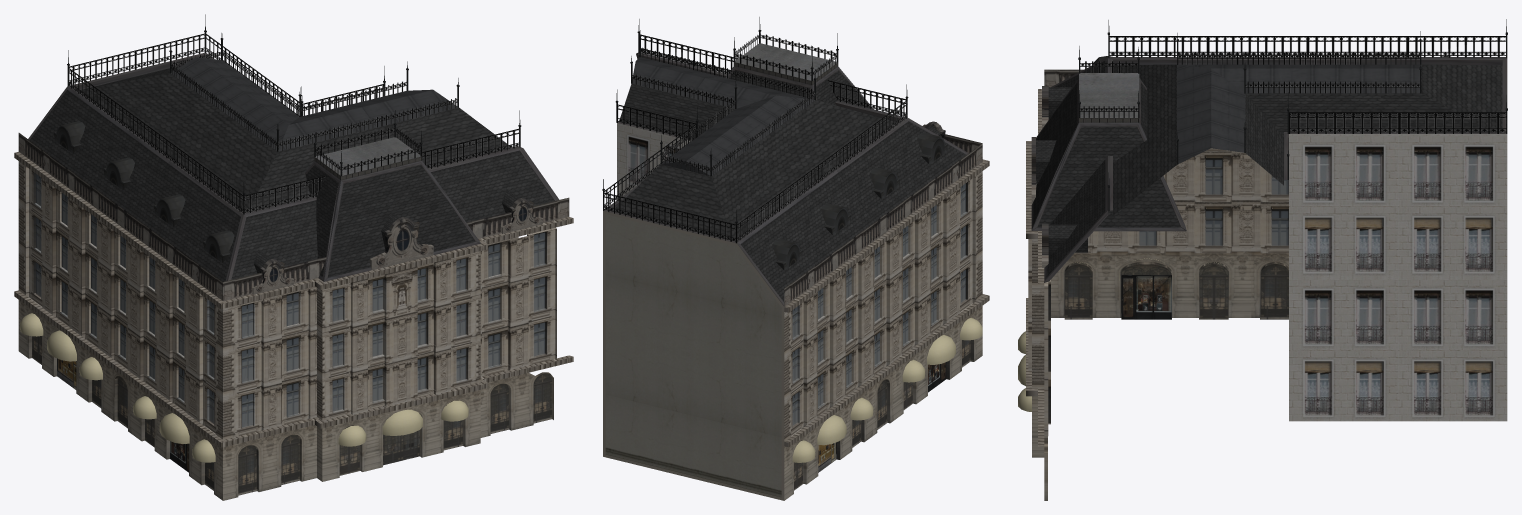
Rendered from edificio_01.glb.
The picture shows the model from 3 angles, left to right: view 1: azimuth 30°, elevation 25°; view 2: azimuth 150°, elevation 25°; view 3: azimuth 270°, elevation 25°; orthographic projection. The views are drawn at different scales.
Parts seen in each view (by area): view 1: german135; view 2: german135; view 3: german135.
Boxes of the visible parts, x1,y1,x2,y2 form: german135: (14, 14, 573, 500); german135: (602, 17, 989, 500); german135: (1018, 19, 1507, 500).
Size of the model in its own units: 31.03 by 25.56 by 32.15.
Materials: 1 (1 with a texture image).
